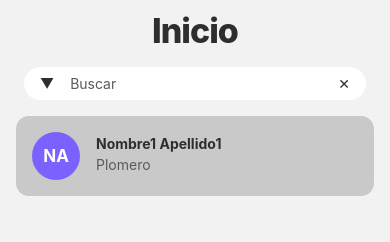
Test: InicioScreen › si una consulta nueva falla no deja la lista vieja: muestra el error
The image size is (390, 242).
Type "plo" into the field with placeholder "Buscar".
click(196, 84); type("plo")  # box x1=70 y1=75 x2=322 y2=92
Wait 400 ms
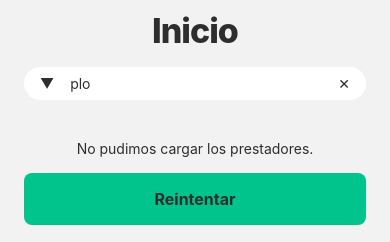
Expected: the text "No pudimos cargar los prestadores." is shown, x1=77 y1=140 x2=313 y2=157
Expected: the button "Nombre1 Apellido1" is gone
